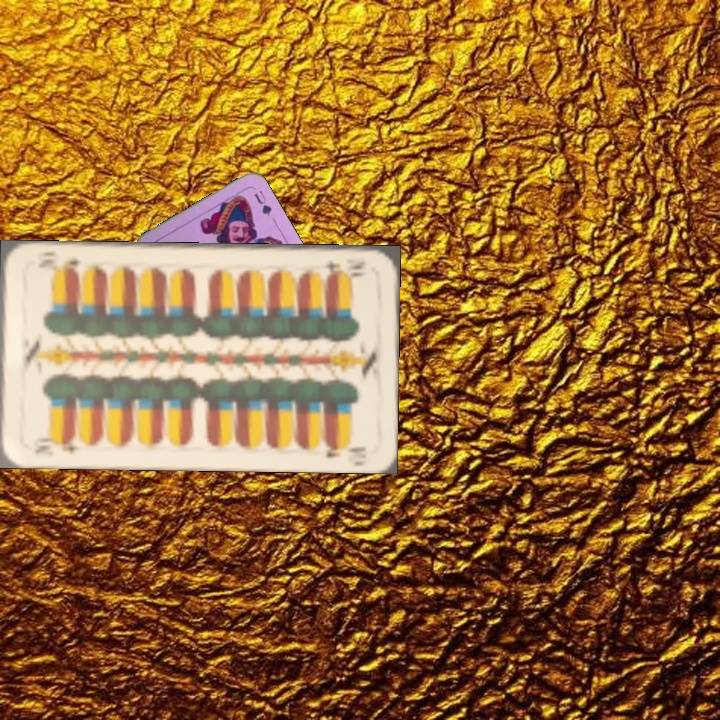E10: (30, 434, 80, 457), (320, 256, 369, 279)
